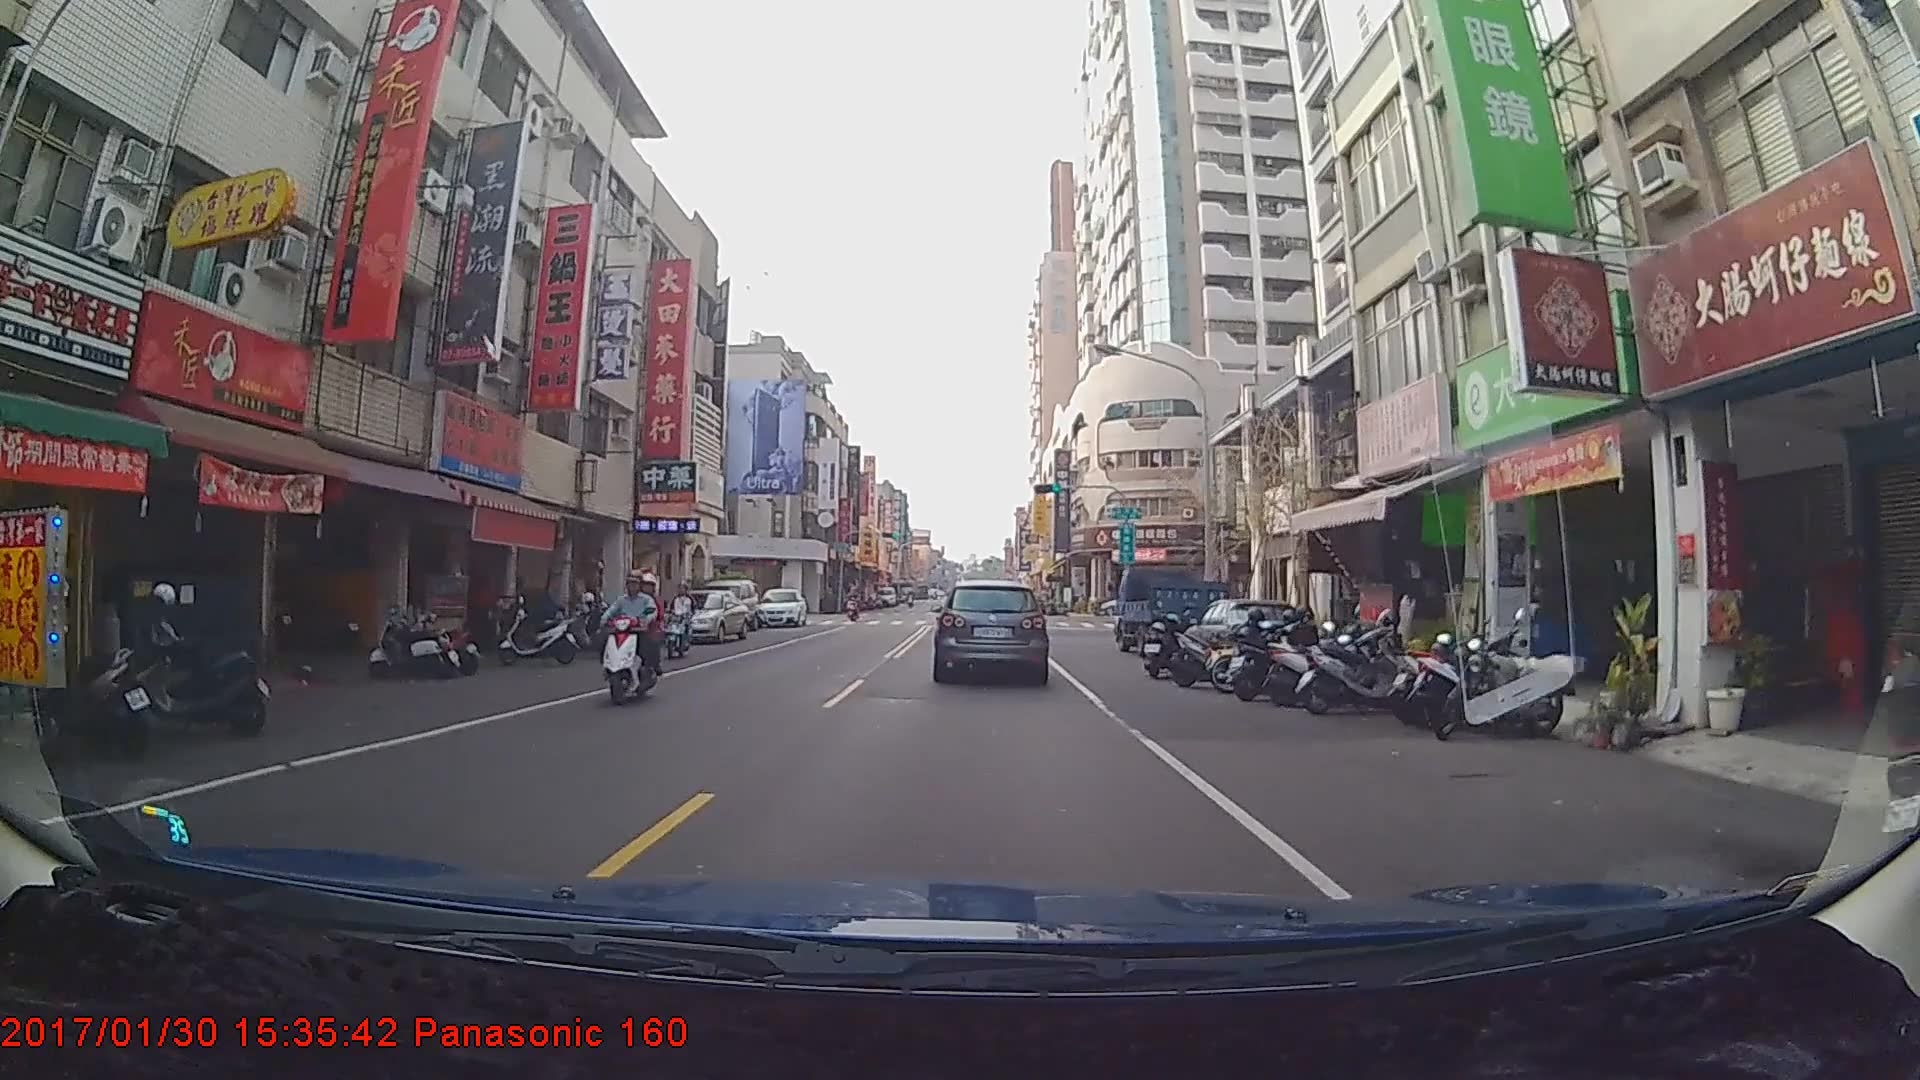rider: (596, 569, 671, 712), (666, 578, 693, 662), (844, 579, 864, 615)
vehicle: (934, 578, 1048, 683), (1111, 563, 1231, 655), (655, 587, 750, 643), (754, 579, 806, 623)
